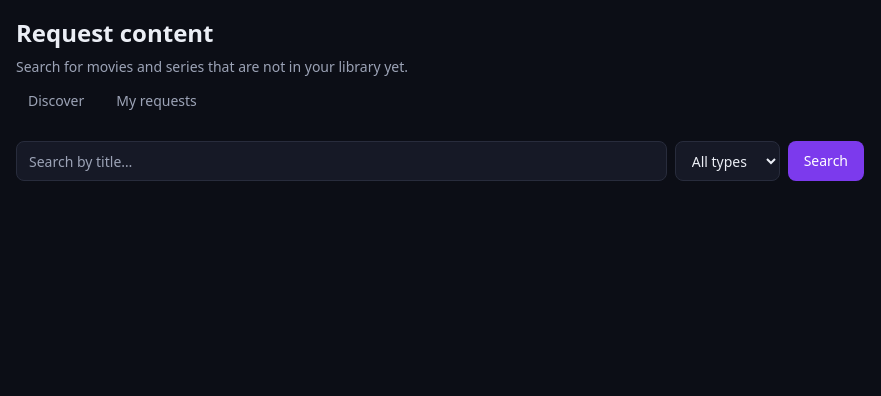
Test: <RequestDiscoverPage /> › renders search form and navigates discover results
This screenshot has width=881, height=396.
Check: the heading "Request content" is shown, box top-left (16, 16), bottom-right (214, 49)
Type "inception" into the field with placeholder "Search by title…" at (341,161), box top-left (16, 141), bottom-right (667, 181)
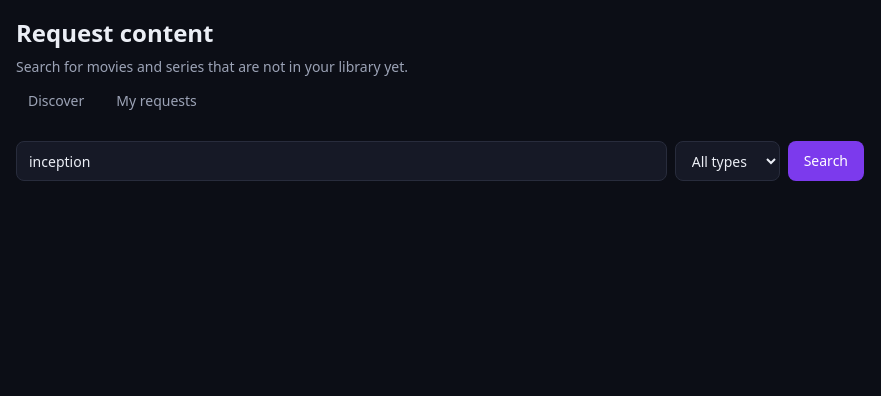
Click the button "Search" at (826,161), box top-left (788, 141), bottom-right (864, 181)
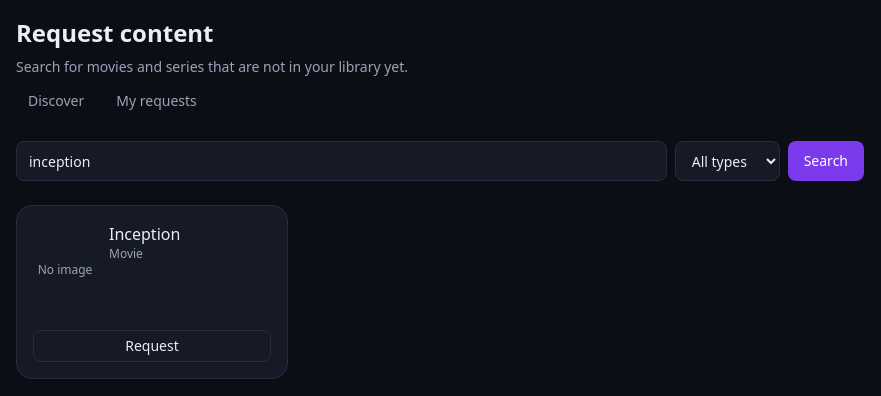
Check: the text "Inception" is shown, box top-left (109, 223), bottom-right (180, 245)
